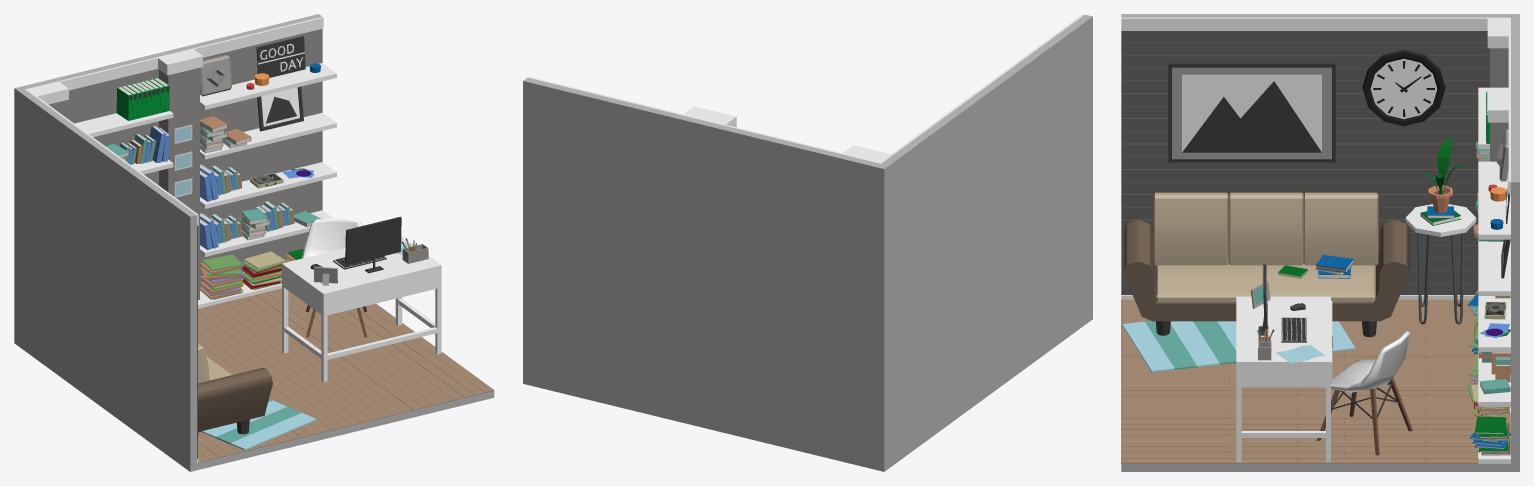
Rendered from office.glb.
The picture shows the model from 3 angles, left to right: view 1: azimuth 30°, elevation 25°; view 2: azimuth 150°, elevation 25°; view 3: azimuth 270°, elevation 25°; orthographic projection. The views are drawn at different scales.
Visible parts, largest first — view 1: Office2_base, Office2_parquet1, Office2_table, Office2_shelves, Office2_sofa, Office2_carpet, Office2_monitor1, Office2_Books5, Office2_chair, Office2_magazines1, Office2_Photoframe_4, Office2_decoration1 (+9 smaller); view 2: Office2_base; view 3: Office2_parquet2, Office2_parquet1, Office2_sofa, Office2_base, Office2_picture, Office2_table, Office2_shelves, Office2_carpet, Office2_clock_1, Office2_chair, Office2_little_table, Office2_magazines3 (+8 smaller).
Part boxes in pixels (box(x1,y1,x2,y2)): Office2_base: box(14, 14, 494, 471); Office2_parquet1: box(198, 288, 494, 462); Office2_table: box(282, 236, 441, 382); Office2_shelves: box(74, 63, 336, 308); Office2_sofa: box(197, 343, 272, 436); Office2_carpet: box(200, 399, 316, 450); Office2_monitor1: box(345, 216, 401, 273); Office2_Books5: box(116, 77, 169, 120); Office2_chair: box(302, 216, 366, 337); Office2_magazines1: box(200, 254, 244, 299); Office2_Photoframe_4: box(257, 86, 303, 131); Office2_decoration1: box(256, 36, 305, 77); Office2_base: box(523, 14, 1092, 471); Office2_parquet2: box(1121, 31, 1489, 294); Office2_parquet1: box(1121, 299, 1478, 463); Office2_sofa: box(1123, 192, 1409, 337); Office2_base: box(1121, 14, 1519, 471); Office2_picture: box(1168, 63, 1335, 162); Office2_table: box(1236, 296, 1332, 462); Office2_shelves: box(1478, 87, 1510, 463); Office2_carpet: box(1122, 321, 1355, 372); Office2_clock_1: box(1362, 50, 1445, 126); Office2_chair: box(1316, 331, 1412, 455); Office2_little_table: box(1405, 204, 1476, 324); Office2_magazines3: box(1470, 416, 1510, 455).
Size of the model in its own units: 5.03 by 4.01 by 5.
1 material, 1 textured.
